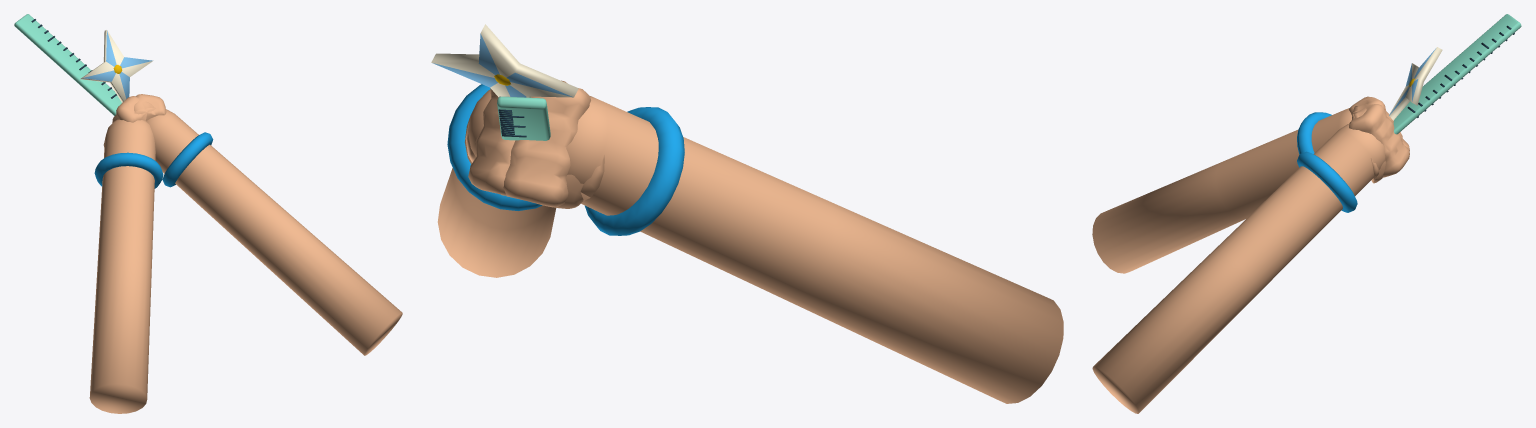
File: rascal.glb
The picture shows the model from 3 angles, left to right: view 1: azimuth 30°, elevation 25°; view 2: azimuth 150°, elevation 25°; view 3: azimuth 270°, elevation 25°; orthographic projection. The views are drawn at different scales.
Parts seen in each view (by area): view 1: L, R, A; view 2: L, R, A; view 3: R, L, A.
Boxes of the visible parts, bbox=[...] form: L: bbox=[14, 14, 166, 413]; R: bbox=[112, 96, 402, 355]; A: bbox=[80, 30, 153, 102]; L: bbox=[468, 80, 1063, 403]; R: bbox=[437, 84, 590, 277]; A: bbox=[431, 24, 578, 97]; R: bbox=[1092, 96, 1409, 413]; L: bbox=[1092, 14, 1521, 273]; A: bbox=[1389, 47, 1442, 120].
Bounding box in the file's own units: 0.6459 × 0.5116 × 0.6792.
